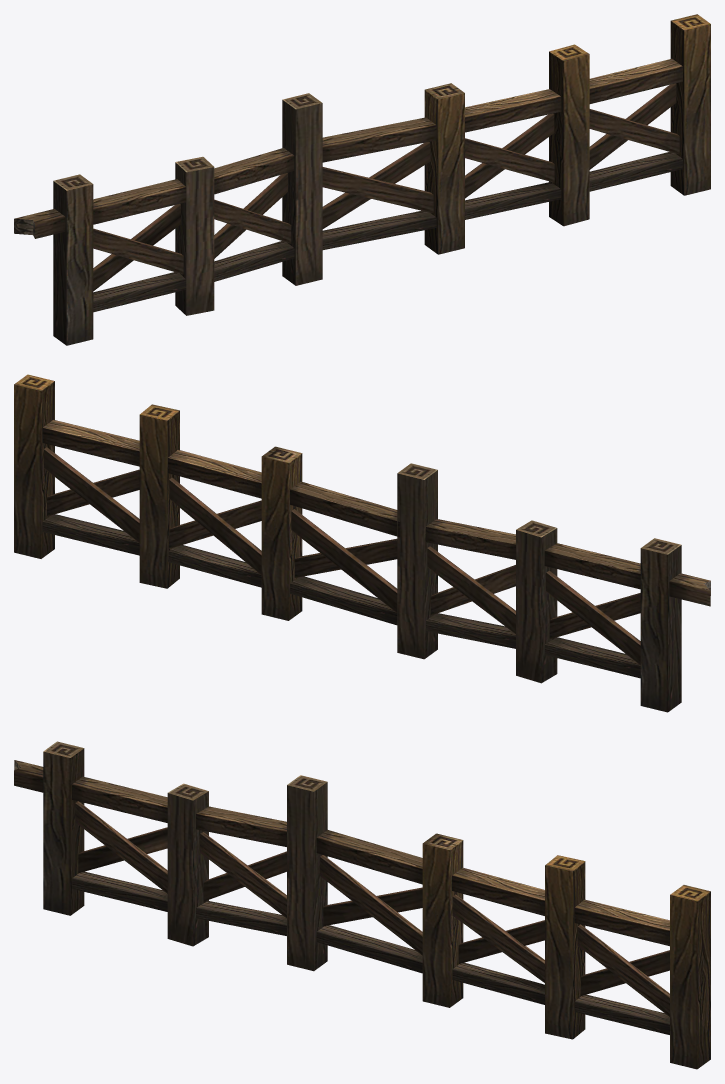
Rendered from Treasure_Enclosure_01.FBX.
3 views of the same model, one above another, from view 1: azimuth 30°, elevation 25°; view 2: azimuth 150°, elevation 25°; view 3: azimuth 330°, elevation 25° (orthographic).
Parts seen in each view (by area): view 1: Treasure_Enclosure_01; view 2: Treasure_Enclosure_01; view 3: Treasure_Enclosure_01.
Boxes of the visible parts, x1,y1,x2,y2 form: Treasure_Enclosure_01: [14, 14, 710, 345]; Treasure_Enclosure_01: [14, 374, 710, 712]; Treasure_Enclosure_01: [14, 741, 710, 1069].
Bounding box in the file's own units: 7.67 × 1.89 × 0.399.
